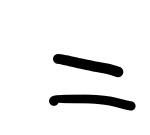eqv: (49, 54, 136, 111)
